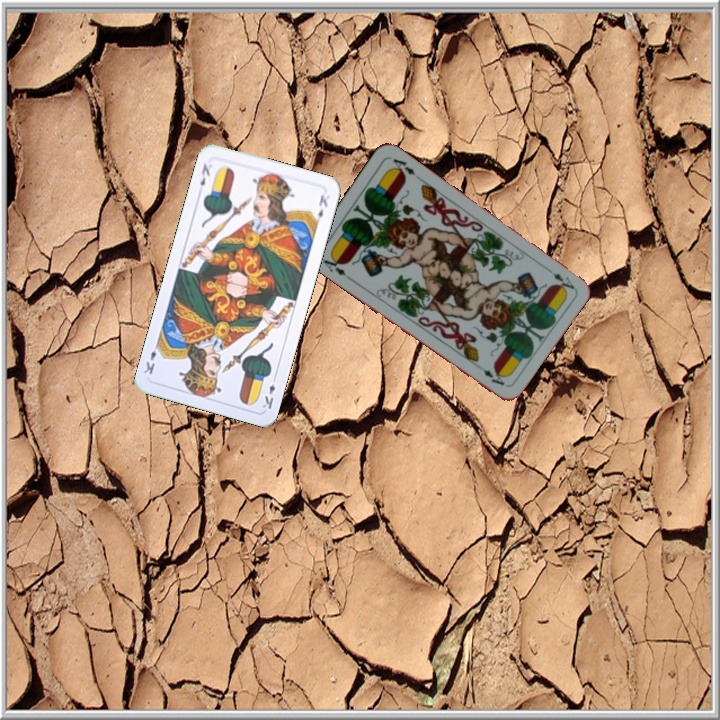EA: (316, 251, 352, 282), (541, 263, 577, 294)
EK: (258, 371, 279, 411), (196, 159, 212, 188)
